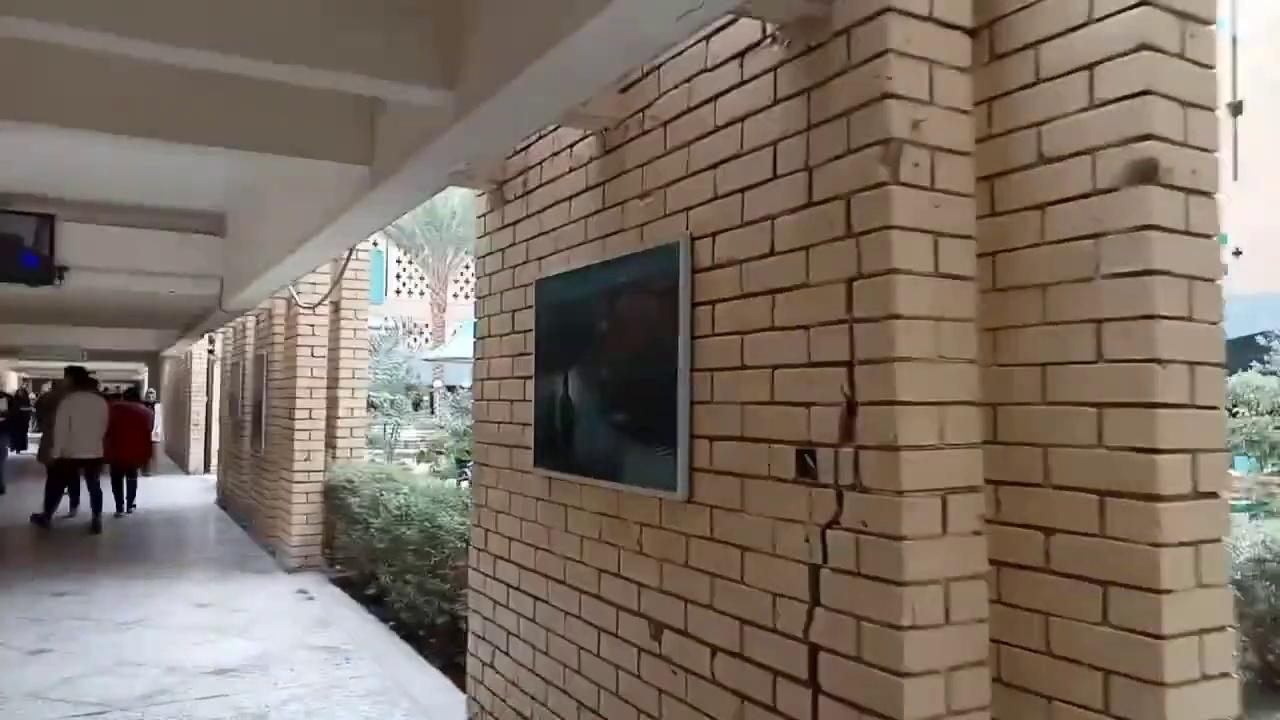tree: (321, 457, 471, 638), (1223, 327, 1279, 696), (381, 187, 475, 350), (1225, 328, 1279, 474), (365, 319, 417, 462), (433, 383, 473, 479)
